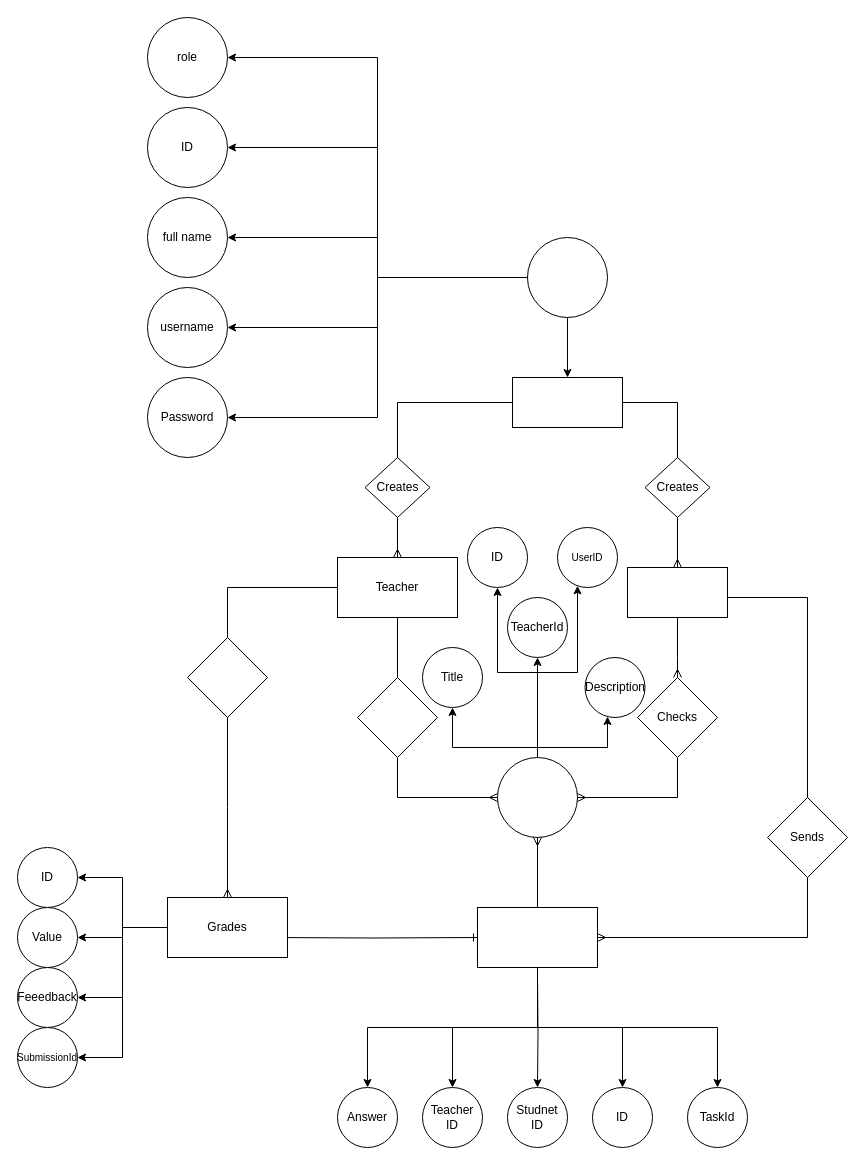
Some shapes in this 865 by 1165 pixel diagram are drawn without their labels. The shapes that lost their labels are listed below. From the top down, each one's centre as x and y in pixels, then its label:
At (567,277): "User".
At (567,402): "Admin".
At (677,592): "Student".
At (227,677): "Sets".
At (397,717): "Adds".
At (537,797): "Task".
At (537,937): "Submission".
